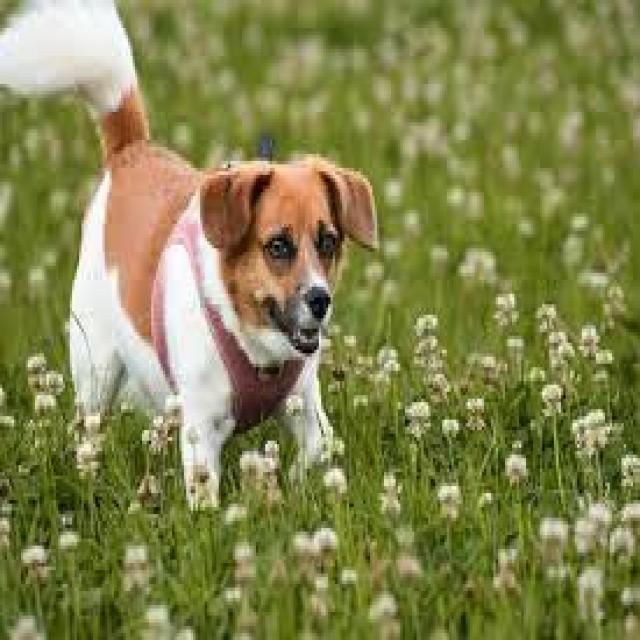Dog: (0, 1, 381, 512)
